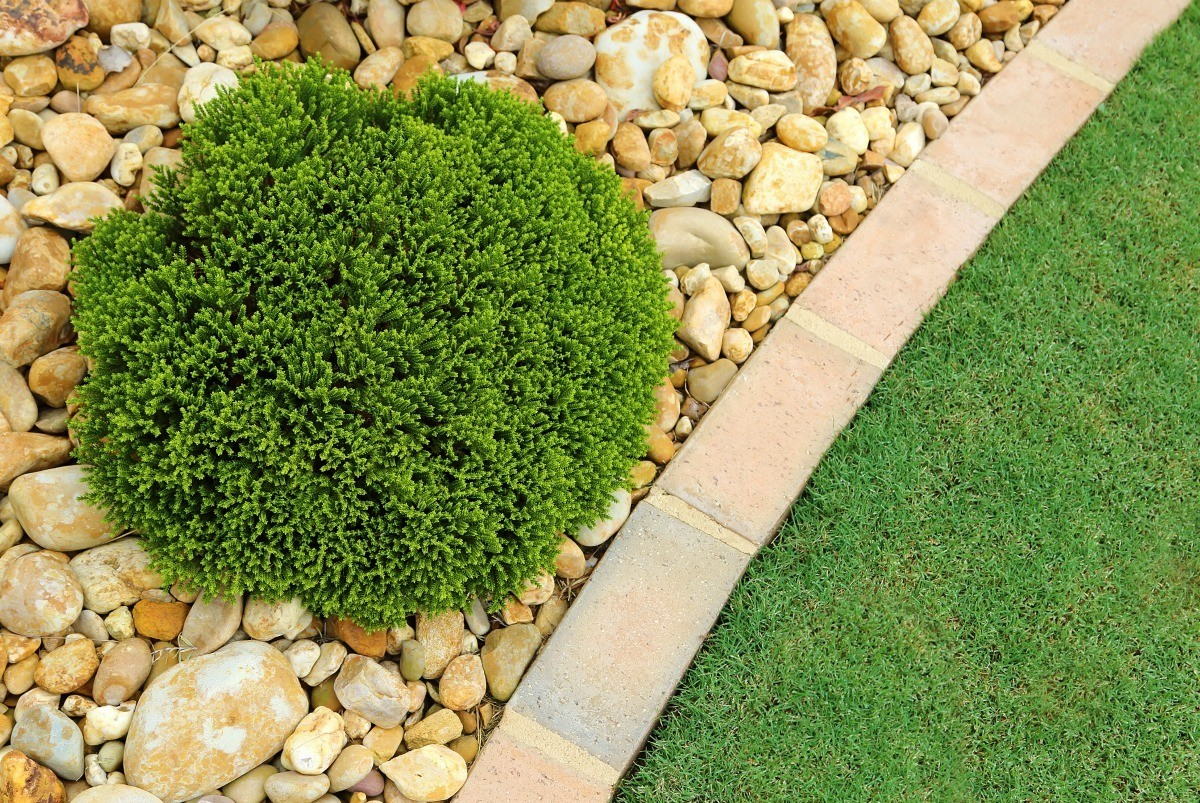grass: (639, 47, 1189, 802)
rock: (0, 550, 566, 802), (582, 116, 948, 431), (184, 0, 1072, 115), (0, 4, 172, 547)
